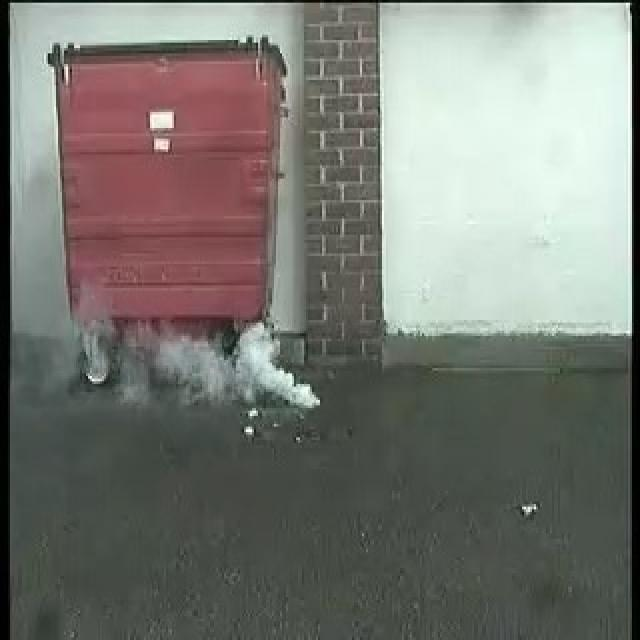smoke: (74, 313, 314, 411)
